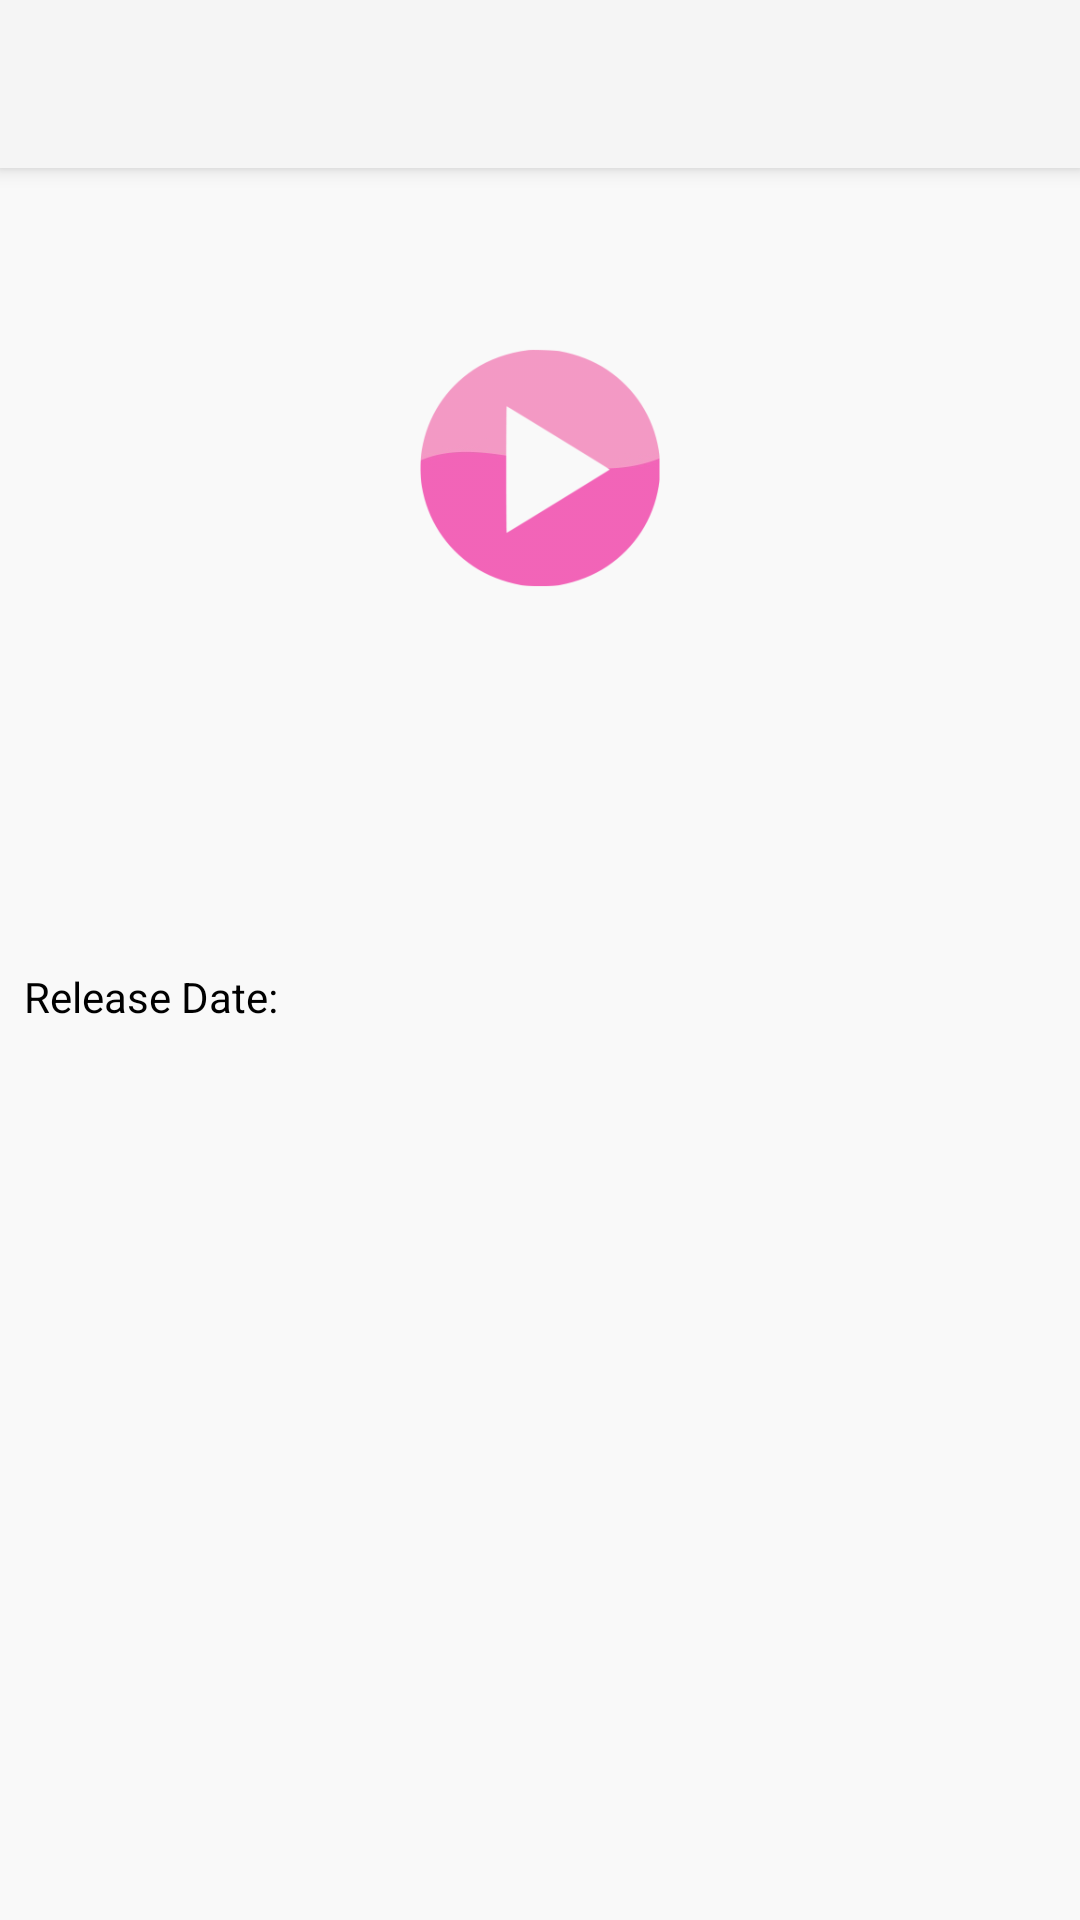

Locate icon controls on the screen. Image size 1080 × 1920, boxes as (x1,y1,x2,y2).
play: (420,350,660,586)
